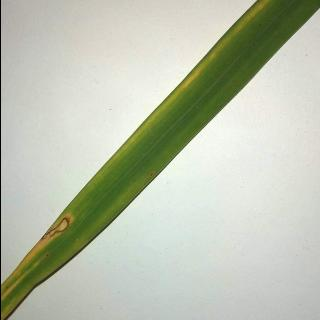Blast: (40, 213, 74, 243)
